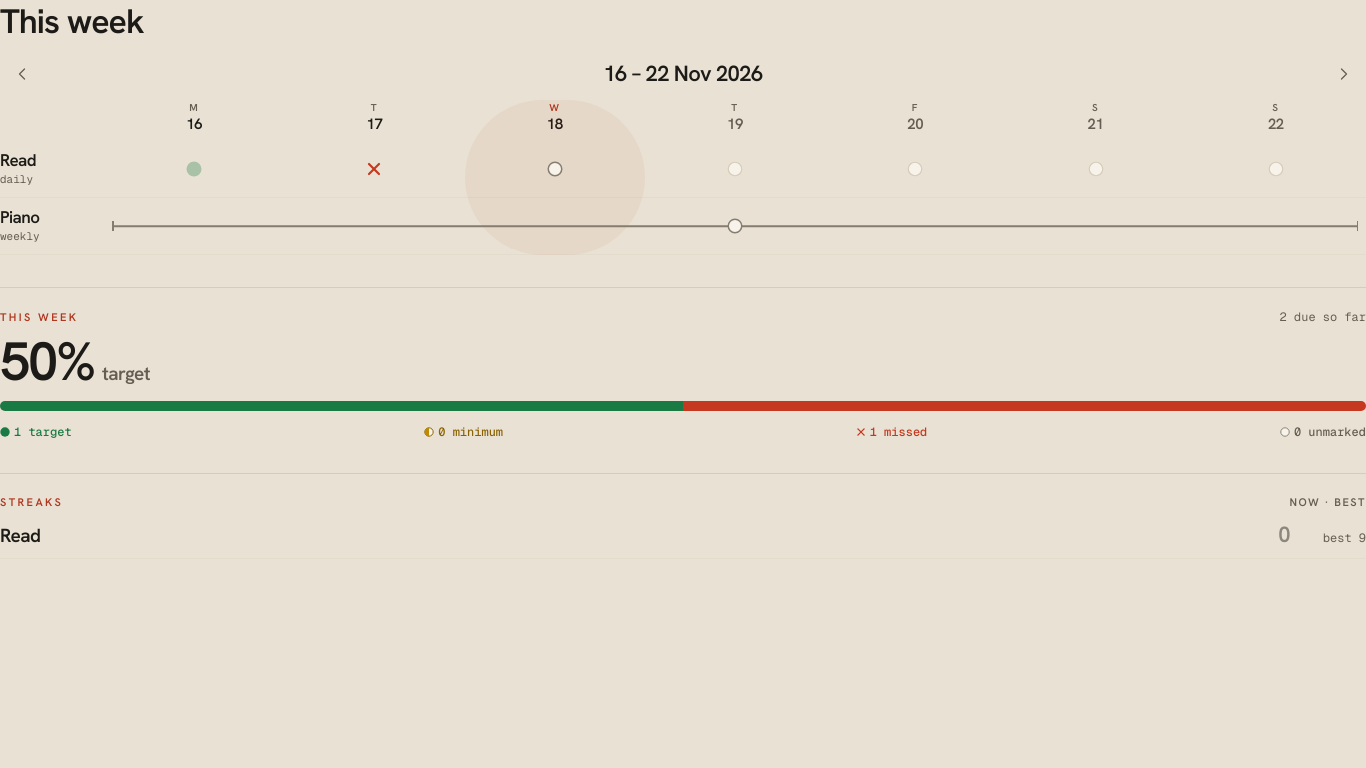
Test: WeekPanel › saves on a single tap, with a note added first
Click the button named "Read, Wed 18 Nov, Not marked yet".
click(555, 169)  # box [465, 147, 645, 191]
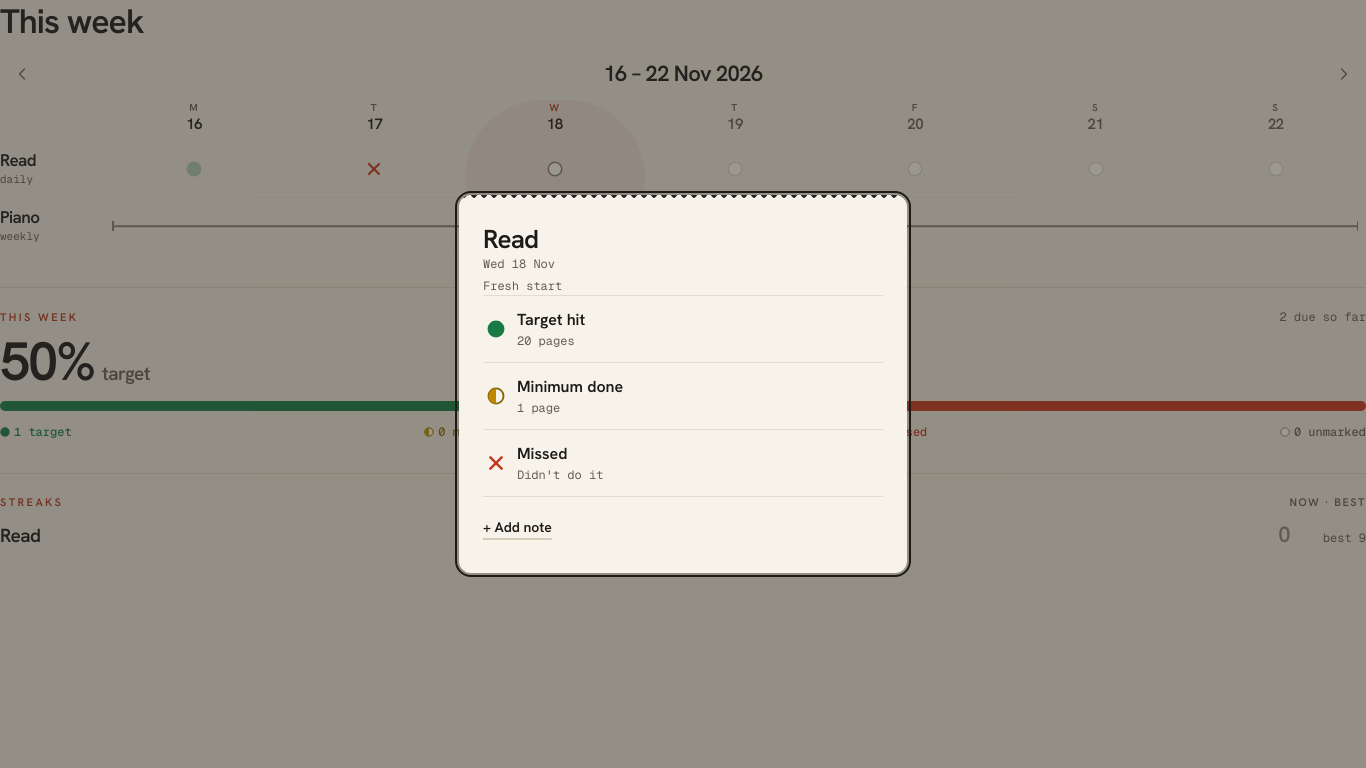
Expected: the button "Target hit 20 pages" is shown, [483, 296, 883, 363]
Expected: the button "Minimum done 1 page" is shown, [483, 363, 883, 430]
Expected: the button "Missed Didn't do it" is shown, [483, 430, 883, 497]
Click the button "+ Add note".
click(517, 527)  # box [483, 505, 552, 549]
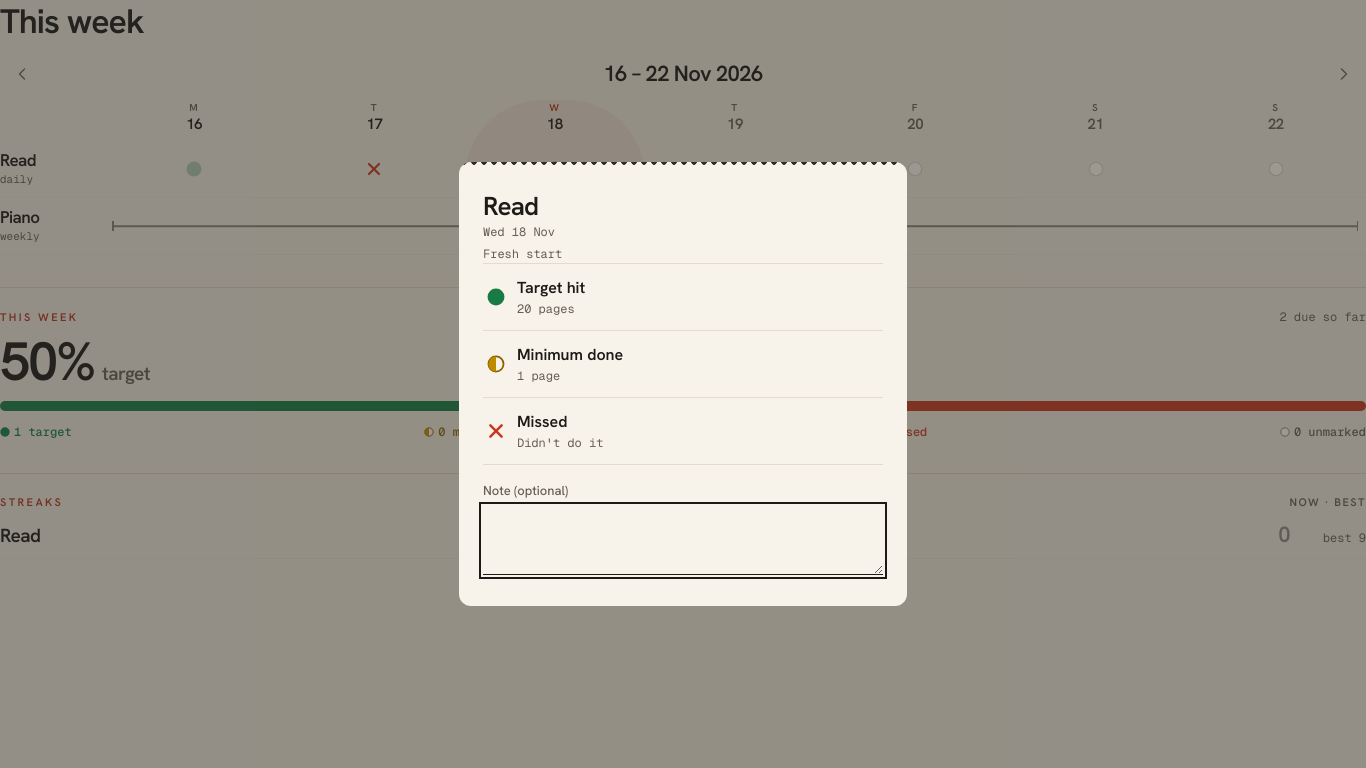
Expected: the button "+ Add note" is gone
Type "ch 4" into the text box labelled "Note (optional)".
click(683, 540); type("ch 4")  # box [483, 506, 883, 575]
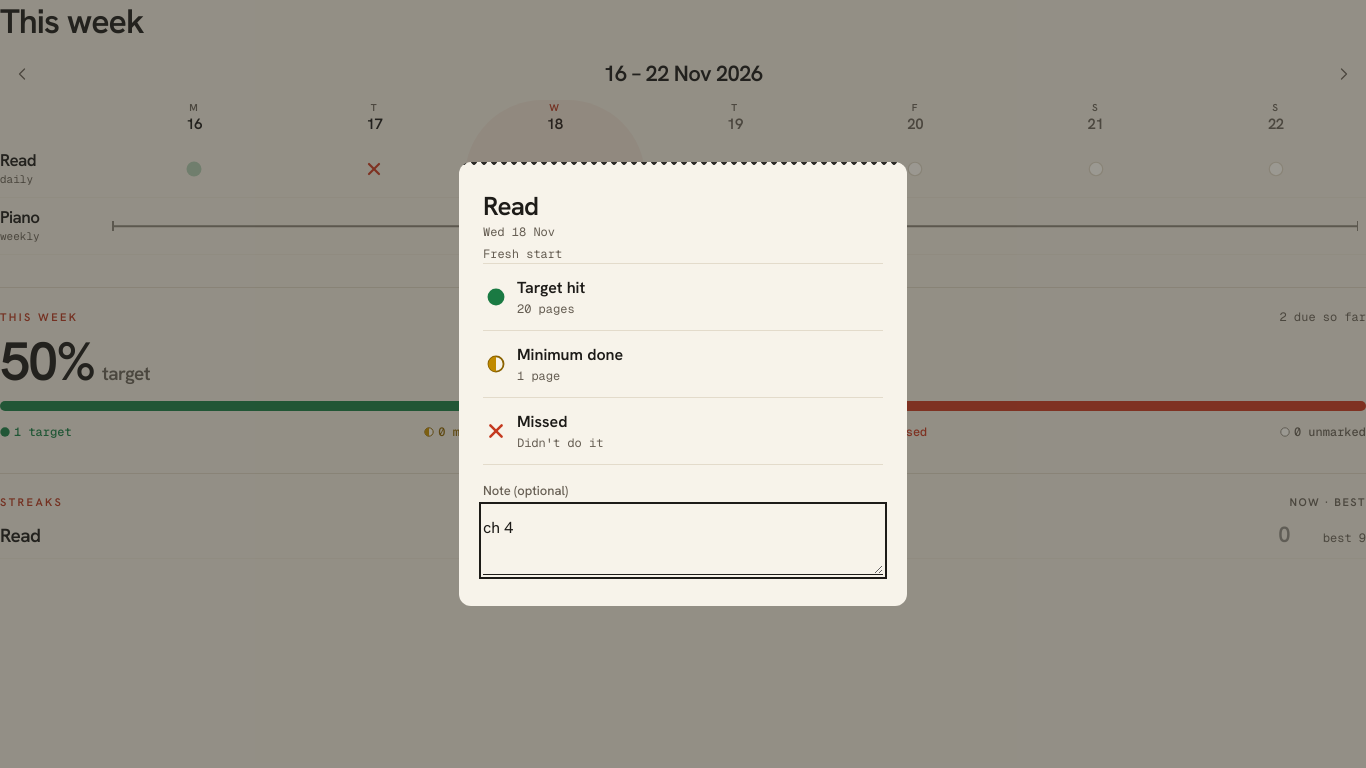
Click the button "Target hit 20 pages".
click(551, 287)  # box [483, 264, 883, 330]
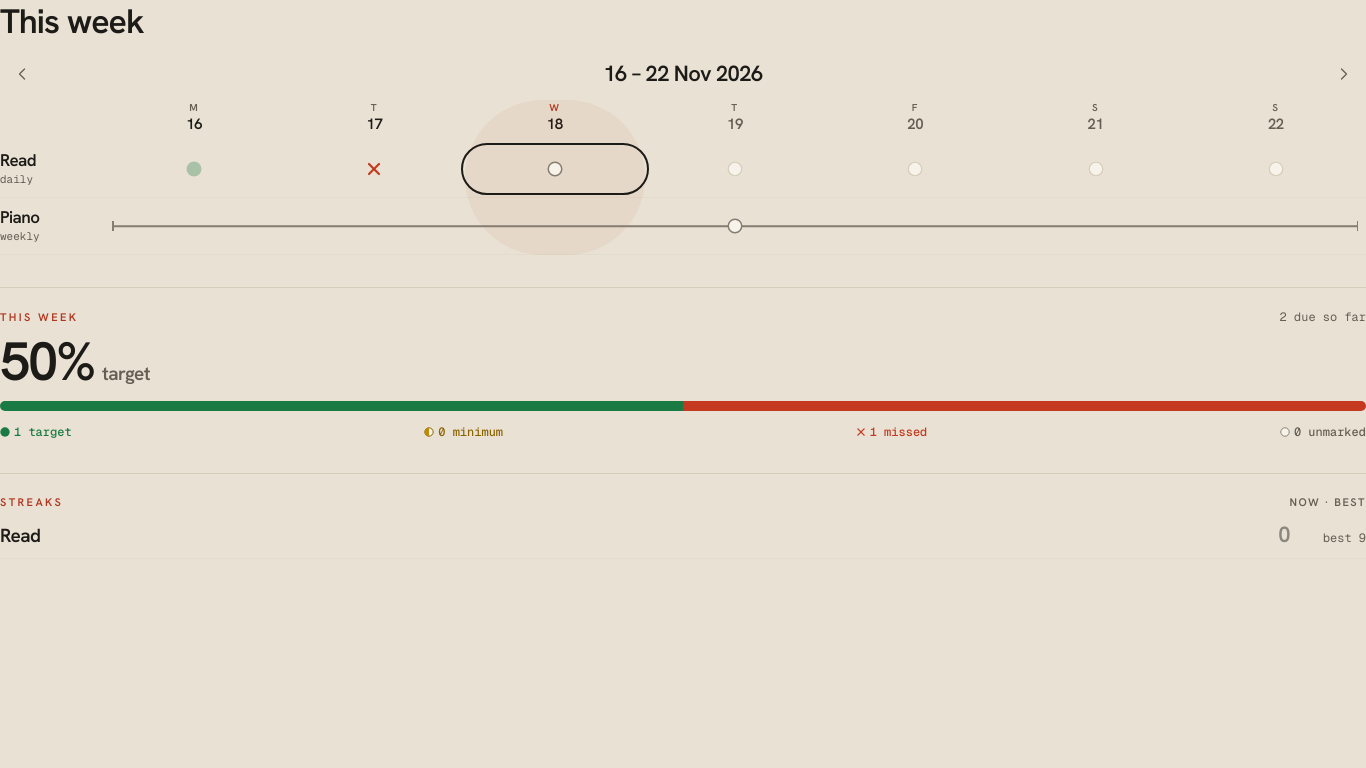
Expected: the dialog is gone
